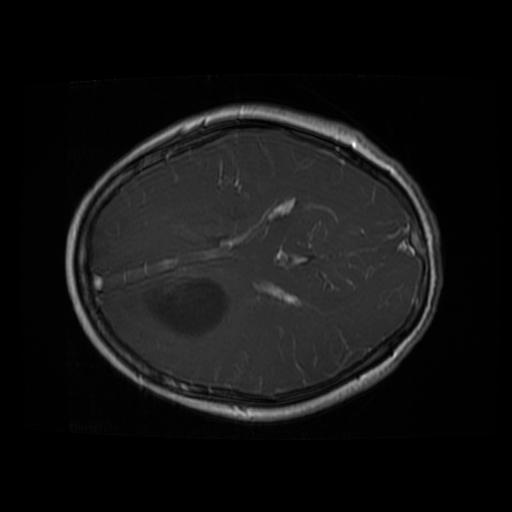glioma: (145, 279, 230, 339)
